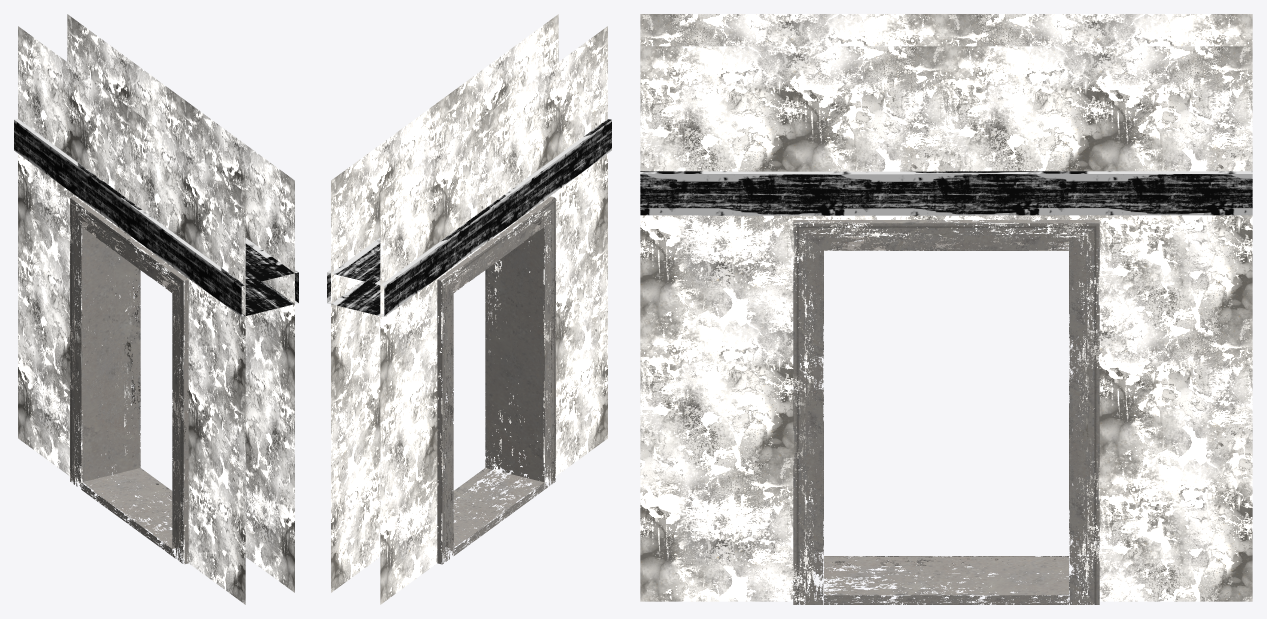
Rendered from SM_wall_A_doorway_4x4_01_02.fbx.
3 views of the same model, side by side, from view 1: azimuth 30°, elevation 25°; view 2: azimuth 150°, elevation 25°; view 3: azimuth 270°, elevation 25° (orthographic). The views are drawn at different scales.
Parts seen in each view (by area): view 1: SM_wall_A_doorway_4x4_01_02_LOD0; view 2: SM_wall_A_doorway_4x4_01_02_LOD0; view 3: SM_wall_A_doorway_4x4_01_02_LOD0.
Part boxes in pixels (box(x1,y1,x2,y2)): SM_wall_A_doorway_4x4_01_02_LOD0: box(14, 14, 298, 604); SM_wall_A_doorway_4x4_01_02_LOD0: box(327, 14, 611, 604); SM_wall_A_doorway_4x4_01_02_LOD0: box(640, 14, 1252, 604).
Bounding box in the file's own units: 60.46 × 400 × 400.
Materials: 4 (4 with a texture image).
